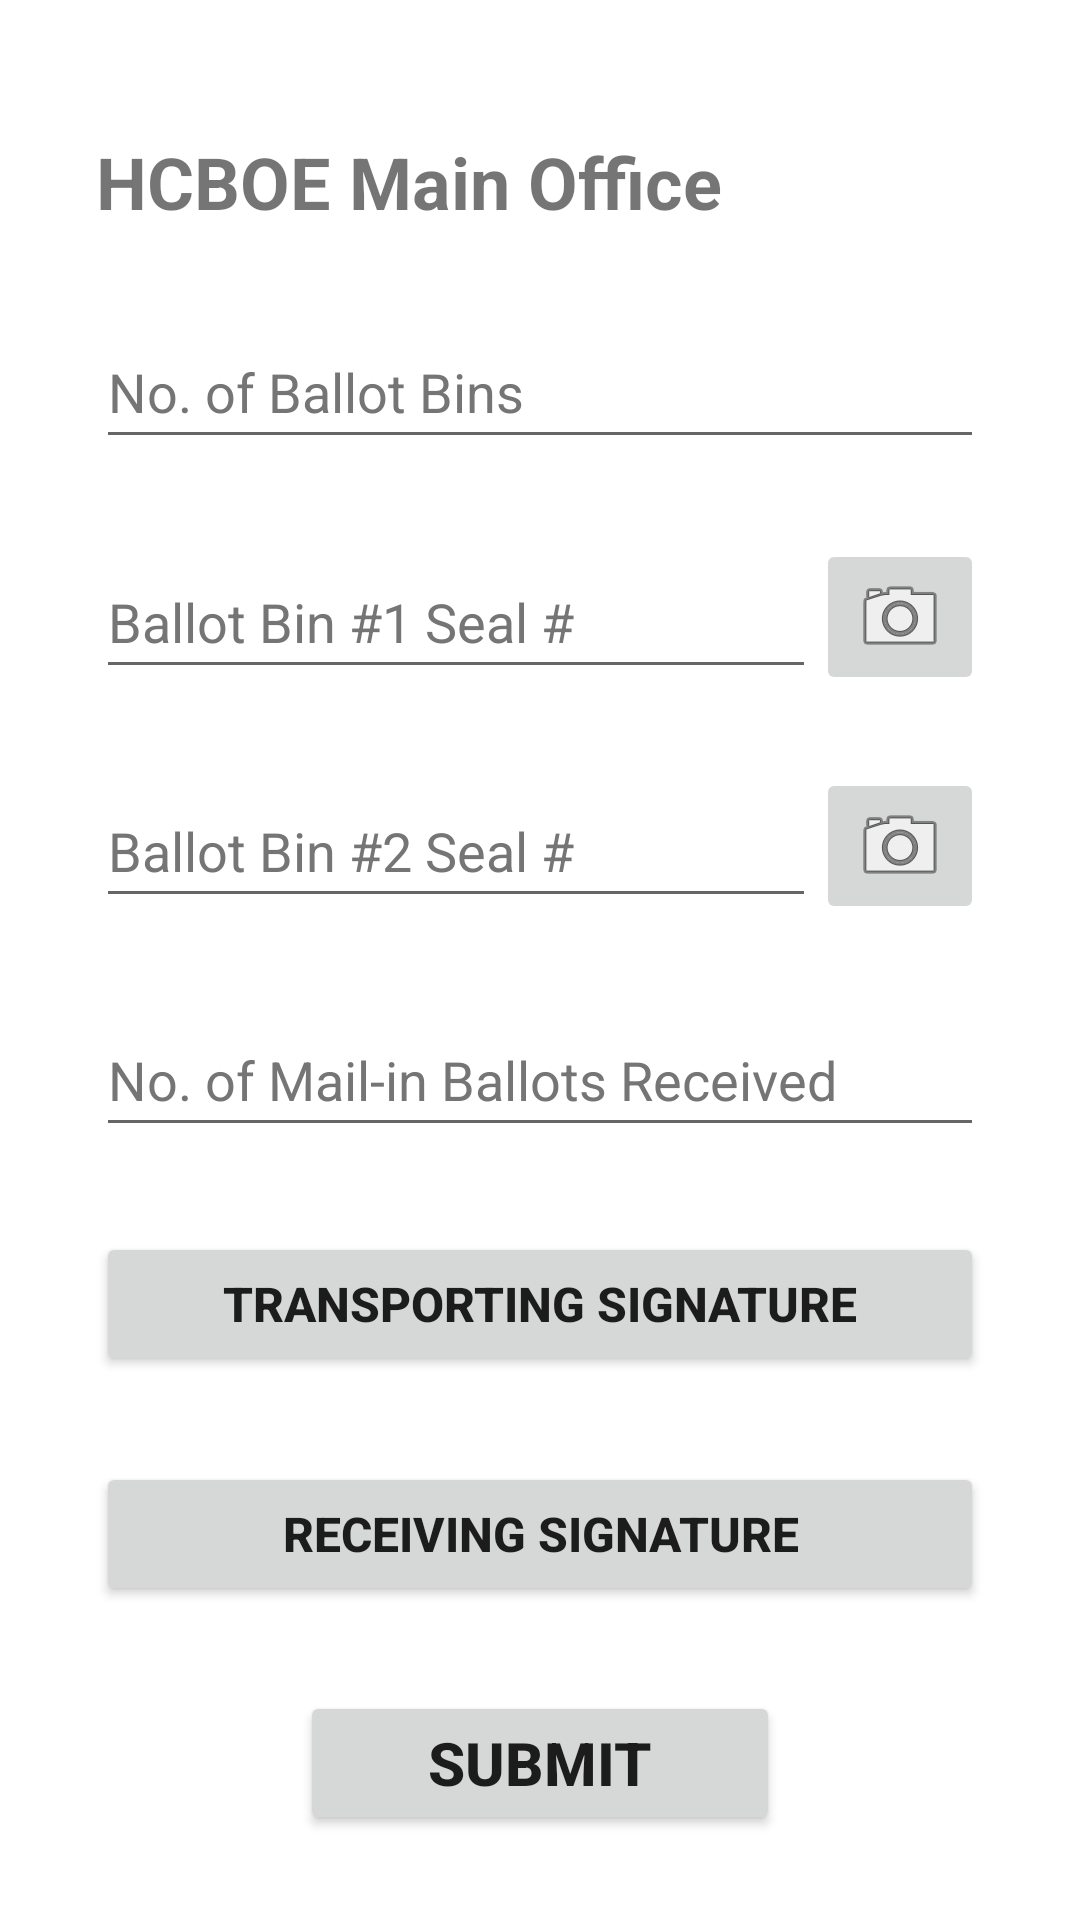

Icon click points for this 1080x1920 phone screenshot, format (x,y):
camera: (900,617), (900,846)
